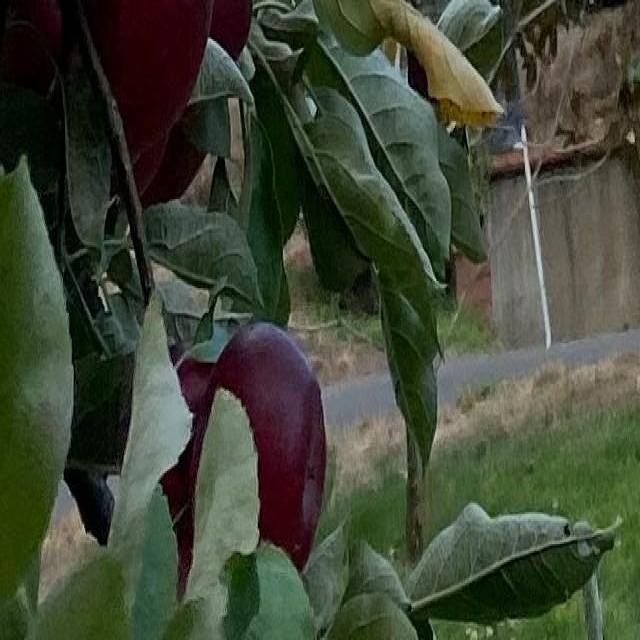Rotten Apple: (192, 324, 329, 570), (89, 0, 208, 164)
